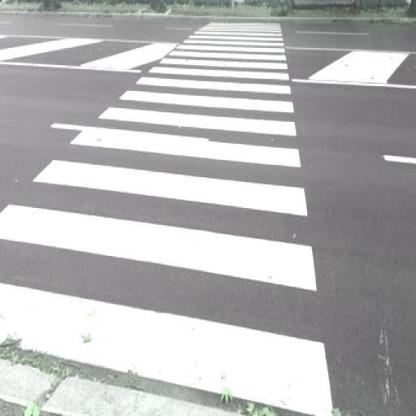crosswalk: (21, 124, 328, 219), (132, 65, 295, 93), (184, 36, 289, 44)
